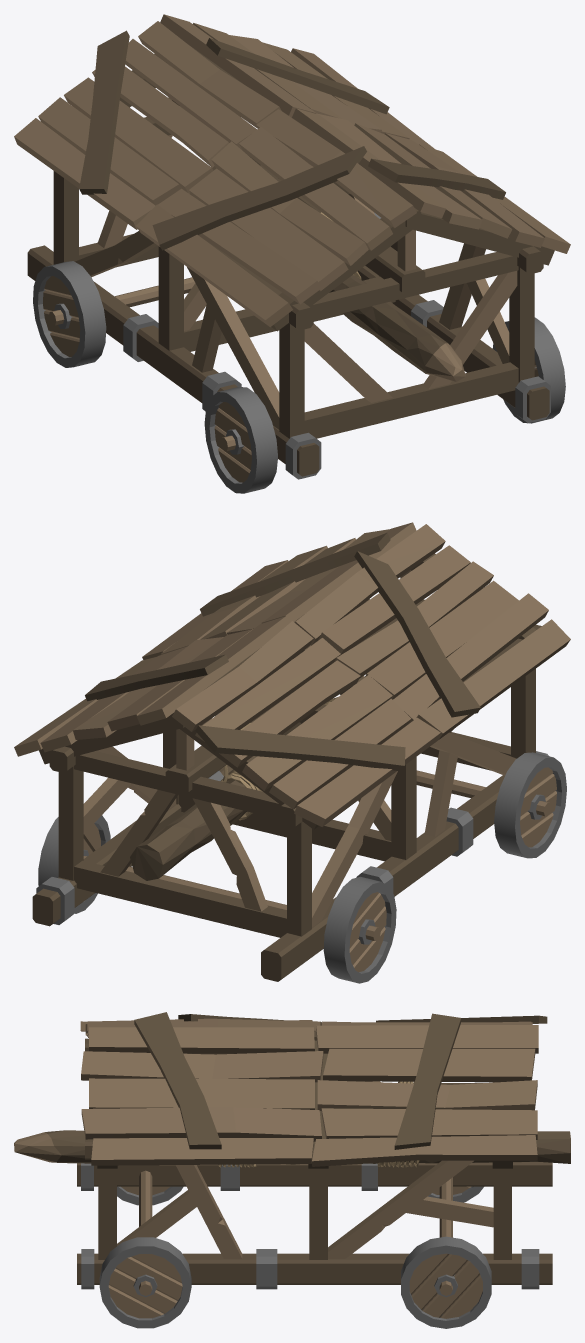
Rendered from siege_battering_ram.FBX.
3 views of the same model, one above another, from view 1: azimuth 30°, elevation 25°; view 2: azimuth 150°, elevation 25°; view 3: azimuth 270°, elevation 25° (orthographic). The views are drawn at different scales.
Parts seen in each view (by area): view 1: siege_battering_ram; view 2: siege_battering_ram; view 3: siege_battering_ram.
Boxes of the visible parts, bbox=[...] form: siege_battering_ram: bbox=[14, 14, 570, 493]; siege_battering_ram: bbox=[14, 522, 570, 983]; siege_battering_ram: bbox=[14, 1012, 570, 1328].
Size of the model in its own units: 3.51 by 2.98 by 5.99.
